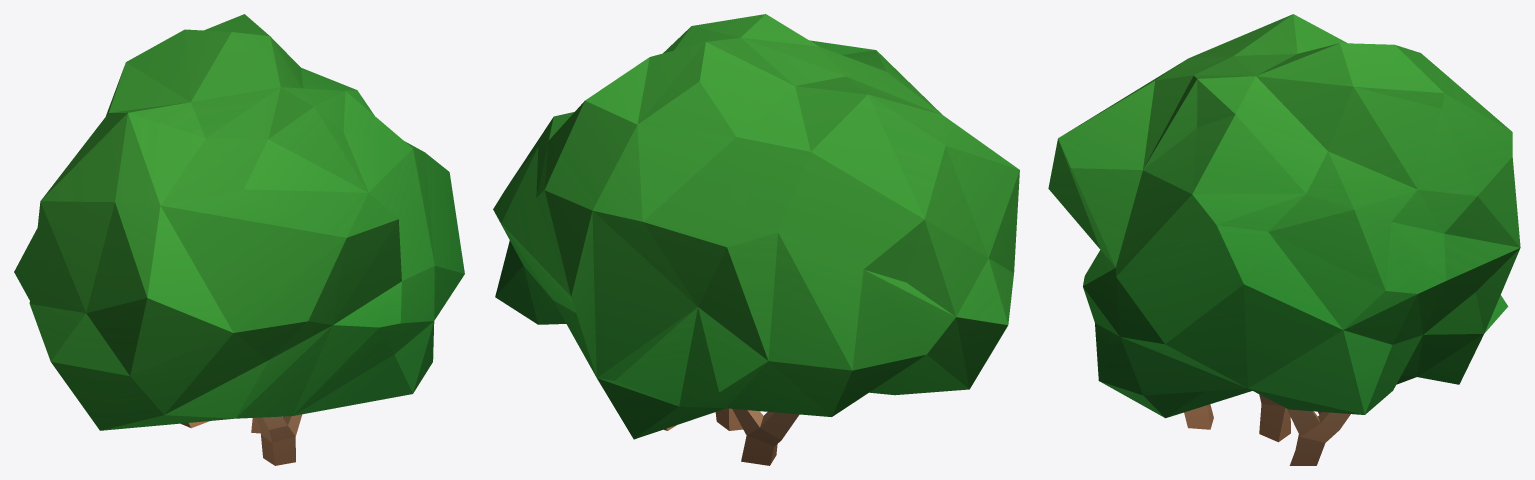
Rendered from Bush_average1.fbx.
3 views of the same model, side by side, from view 1: azimuth 30°, elevation 25°; view 2: azimuth 150°, elevation 25°; view 3: azimuth 270°, elevation 25° (orthographic). The views are drawn at different scales.
Parts seen in each view (by area): view 1: Bush_average; view 2: Bush_average; view 3: Bush_average.
Boxes of the visible parts, bbox=[...] form: Bush_average: bbox=[14, 14, 464, 465]; Bush_average: bbox=[493, 14, 1019, 465]; Bush_average: bbox=[1048, 14, 1520, 465].
Size of the model in its own units: 468 by 408 by 448.
